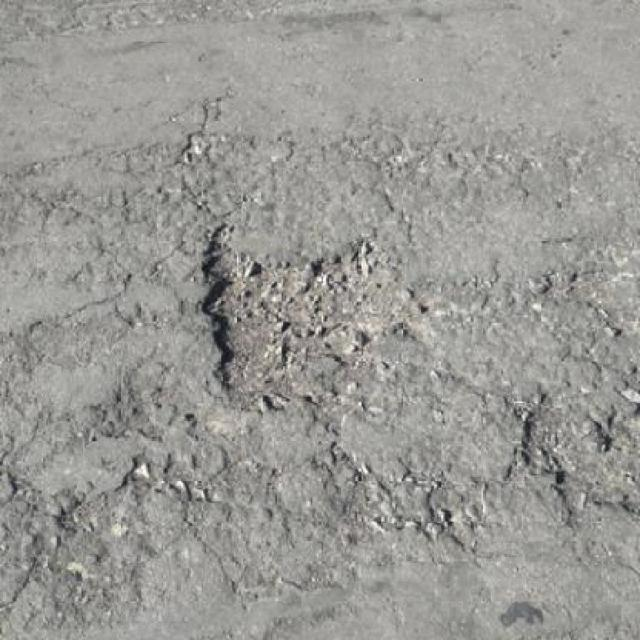Pothole: (190, 221, 408, 413), (517, 397, 597, 511)
